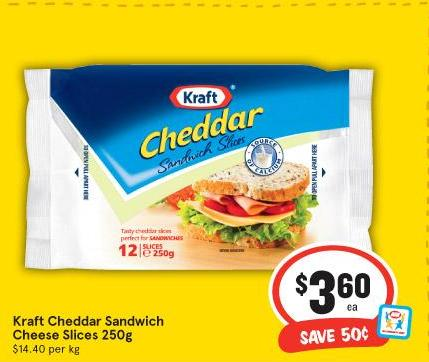description_block: (3, 305, 177, 346)
price_main: (271, 251, 396, 321)
product_image_block: (13, 51, 384, 262)
promo_text_block: (267, 323, 397, 352)
unit_price_block: (6, 341, 89, 358)
